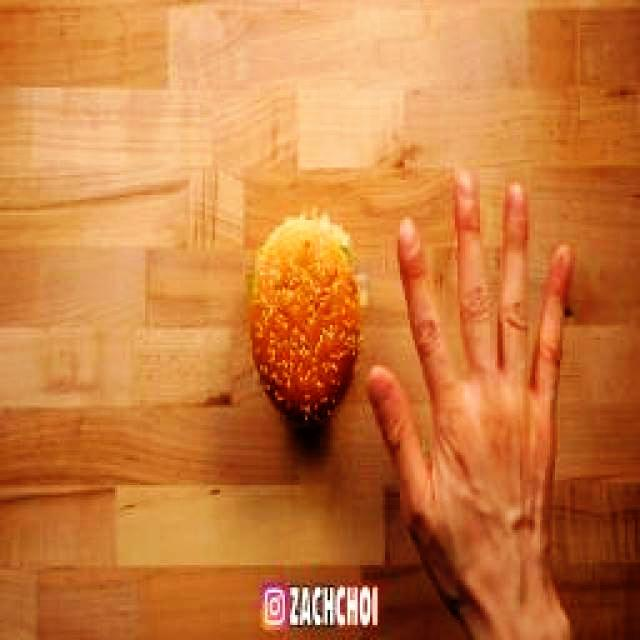burger: (245, 211, 365, 428)
